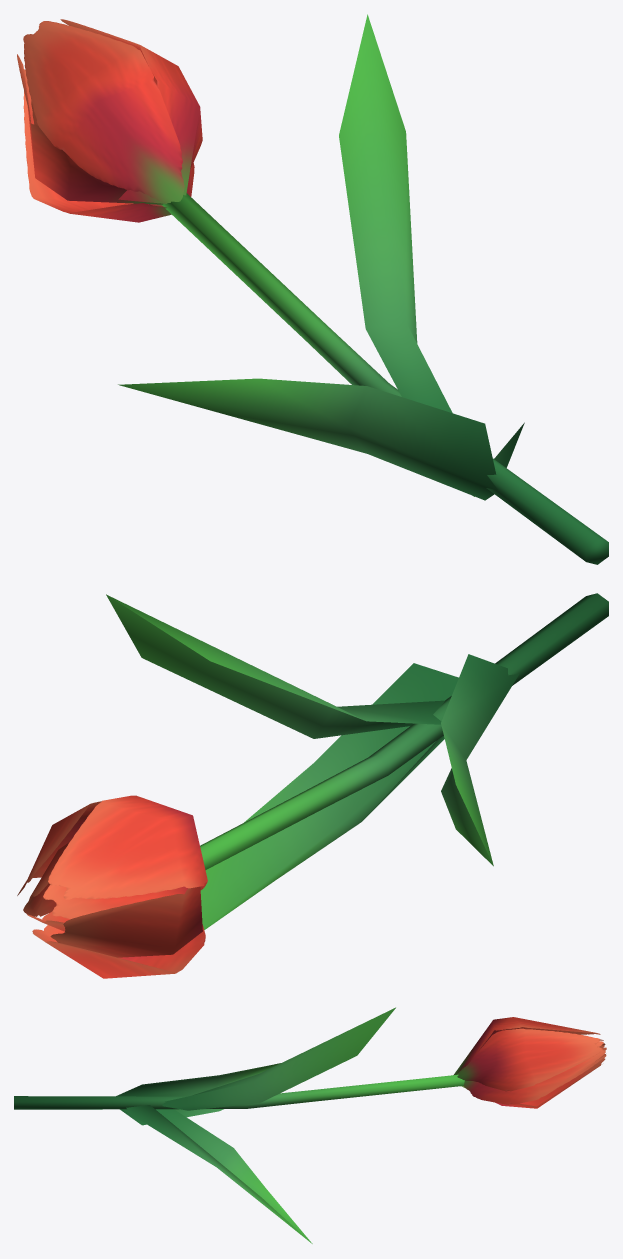
The model's file is SM_Tulip_Red_Closed.fbx.
3 views of the same model, one above another, from view 1: azimuth 30°, elevation 25°; view 2: azimuth 150°, elevation 25°; view 3: azimuth 270°, elevation 25° (orthographic). The views are drawn at different scales.
Visible parts, largest first — view 1: Tulip_Red_Closed; view 2: Tulip_Red_Closed; view 3: Tulip_Red_Closed.
Part boxes in pixels (box(x1,y1,x2,y2)): Tulip_Red_Closed: box(17, 14, 608, 564); Tulip_Red_Closed: box(17, 593, 608, 978); Tulip_Red_Closed: box(14, 1007, 606, 1243).
Bounding box in the file's own units: 41.15 × 49.06 × 115.
